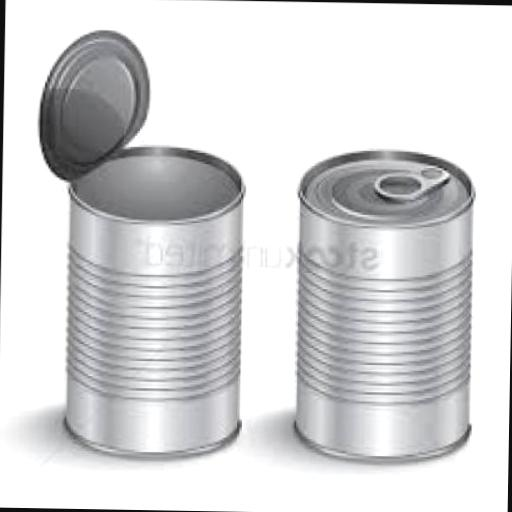metal: (32, 26, 252, 460), (292, 147, 478, 464)
